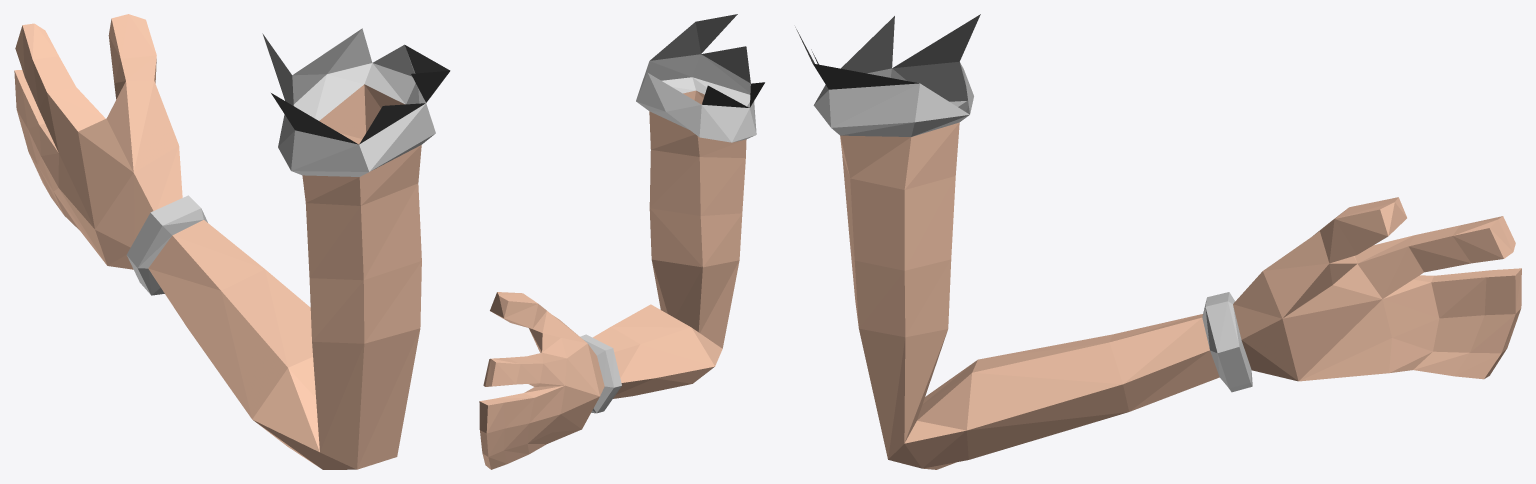
File: Mother_01_04_A_ArmL_104.obj
The picture shows the model from 3 angles, left to right: view 1: azimuth 30°, elevation 25°; view 2: azimuth 150°, elevation 25°; view 3: azimuth 270°, elevation 25°; orthographic projection. The views are drawn at different scales.
Parts seen in each view (by area): view 1: Mother_01_04_A_ArmL_104; view 2: Mother_01_04_A_ArmL_104; view 3: Mother_01_04_A_ArmL_104.
Part boxes in pixels (left/top/right/bottom): Mother_01_04_A_ArmL_104: left=14, top=14, right=450, bottom=469; Mother_01_04_A_ArmL_104: left=479, top=14, right=764, bottom=469; Mother_01_04_A_ArmL_104: left=795, top=14, right=1521, bottom=469.
Bounding box in the file's own units: 0.1419 × 0.3874 × 0.5781.
1 material, 1 textured.
